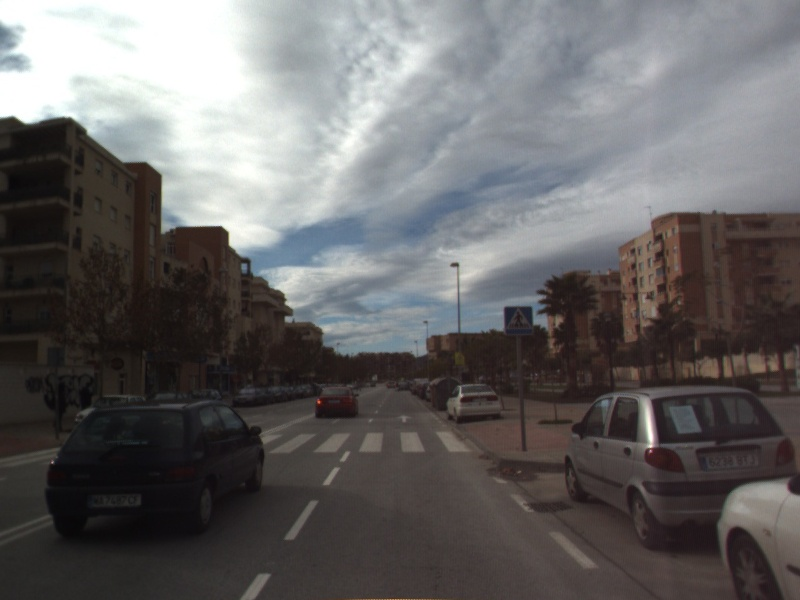STRAIGHT: (395, 412, 415, 425)
